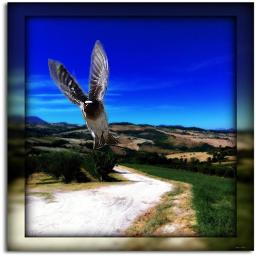Swallow: (48, 40, 122, 149)
